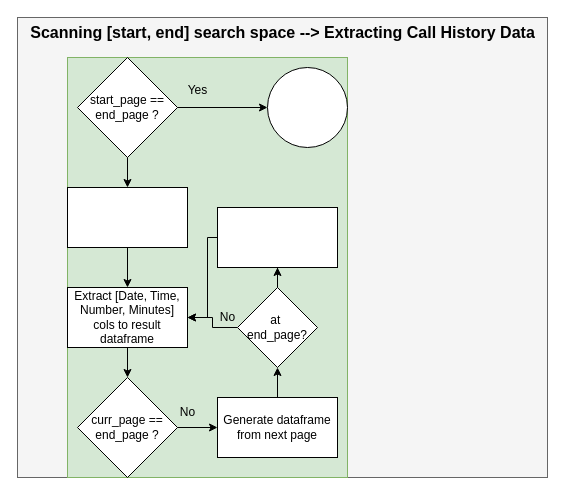
Some shapes in this 565 by 495 pixel diagram are drawn without their labels. Each missing label, with the box of its shape:
Edge case : find indices of search_keys on page: (266, 66, 348, 148)
Scan for search_key, mark row as start of Extraction Space: (66, 186, 188, 248)
Slice out first call data table only: (216, 206, 338, 268)
